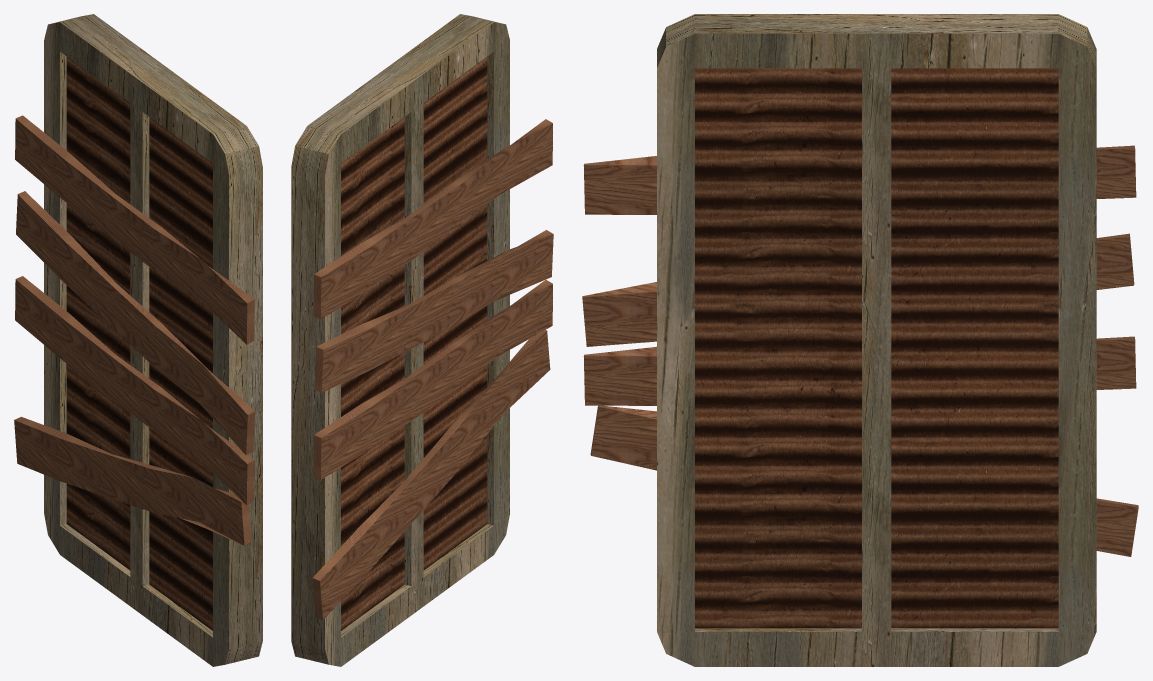
Rendered from boardedwindow.FBX.
3 views of the same model, side by side, from view 1: azimuth 30°, elevation 25°; view 2: azimuth 150°, elevation 25°; view 3: azimuth 270°, elevation 25° (orthographic). The views are drawn at different scales.
Parts seen in each view (by area): view 1: boarded window, window, Box002, Box004, Box003, Box001; view 2: boarded window, window, Box001, Box004, Box003, Box002; view 3: window, boarded window, Box003, Box004, Box002, Box001.
Boxes of the visible parts, x1,y1,x2,y2 form: boarded window: (44,14,262,666); window: (66,57,212,630); Box002: (16,191,255,455); Box004: (15,115,254,344); Box003: (15,276,254,504); Box001: (14,416,251,545); boarded window: (291,14,509,666); window: (341,57,487,630); Box001: (312,330,550,619); Box004: (313,119,552,319); Box003: (313,280,552,479); Box002: (314,230,553,392); window: (695,68,1058,628); boarded window: (657,14,1096,666); Box003: (583,336,1136,405); Box004: (583,145,1136,214); Box002: (582,233,1134,346); Box001: (590,405,1138,556).
Bounding box in the file's own units: 8.26 × 90.87 × 72.35.
3 materials, 3 textured.
